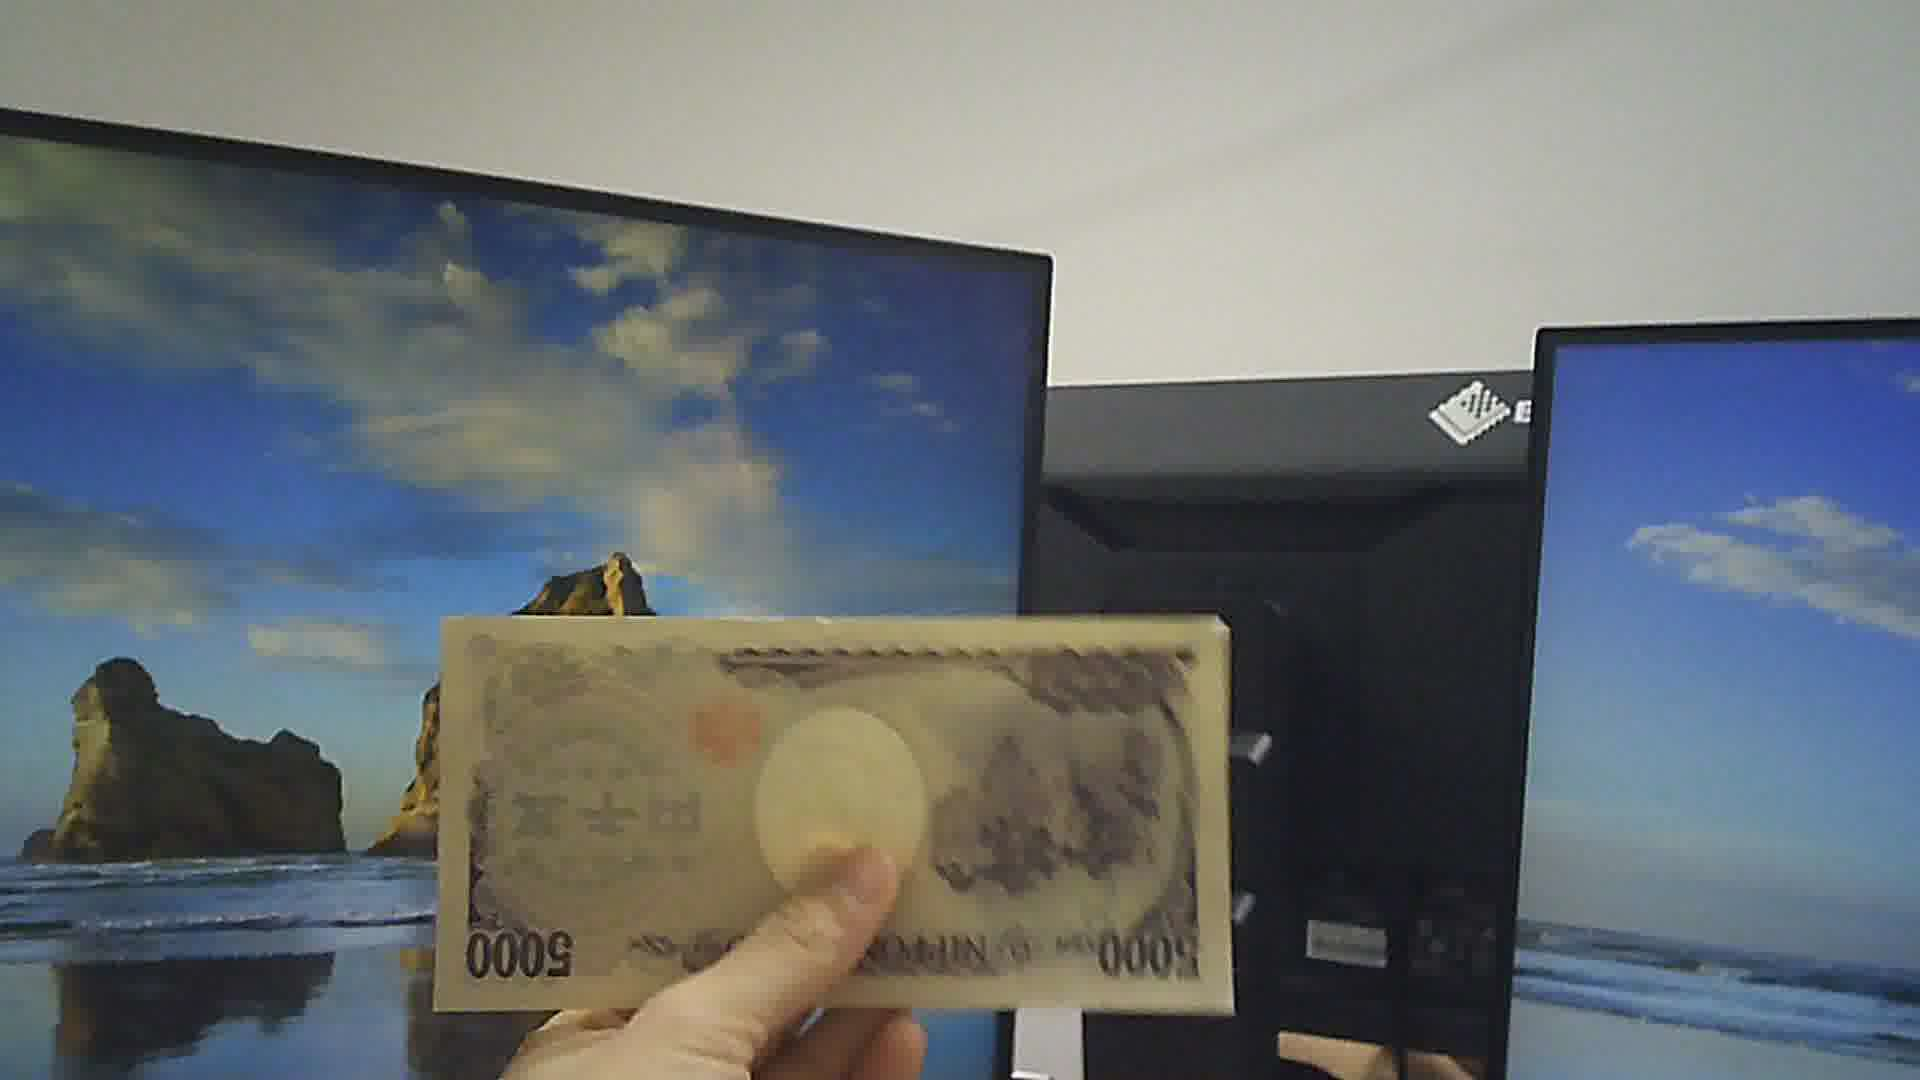5,000 Yen: (423, 589, 1249, 1021)
